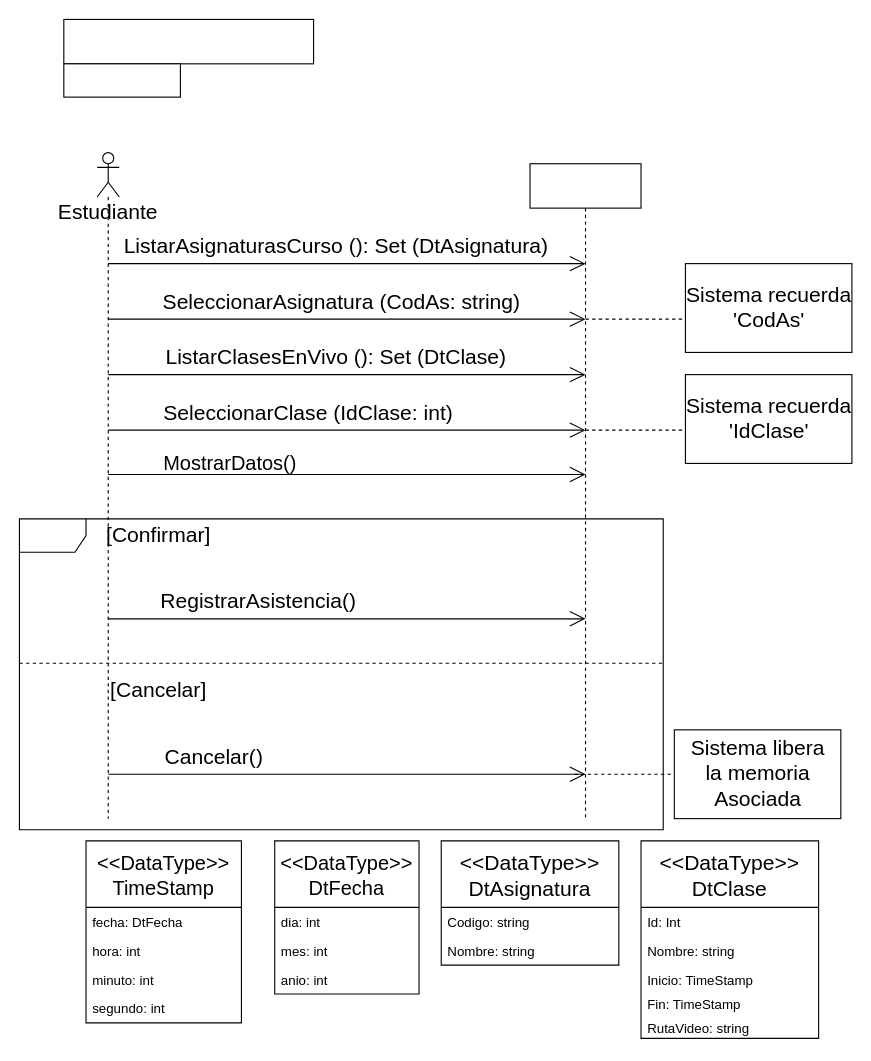
Some shapes in this 871 by 1061 pixel diagram are drawn without their labels. The box of each missing label's shape, as (x1, y1, x2, y2) in pixels:
:Sistema: (529, 163, 641, 819)
alt: (18, 518, 663, 830)
Asistencia a clase en vivo: (63, 18, 314, 64)
Con memoria: (63, 63, 180, 97)
